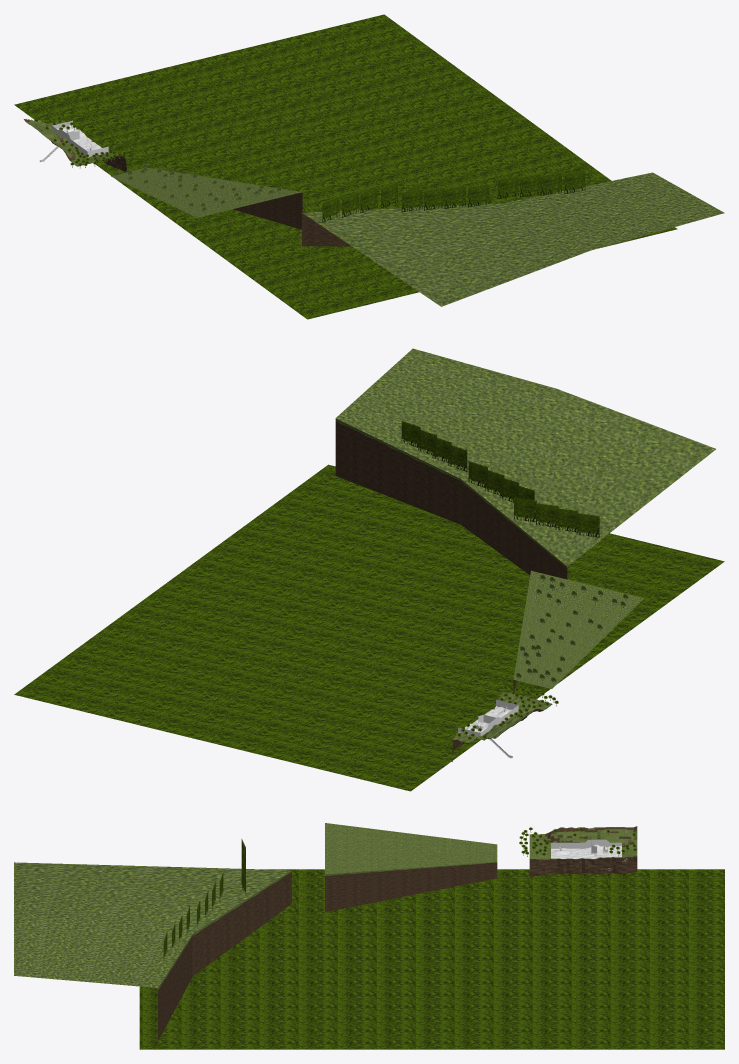
Rendered from Map_Cliffside7.glb.
3 views of the same model, one above another, from view 1: azimuth 30°, elevation 25°; view 2: azimuth 150°, elevation 25°; view 3: azimuth 270°, elevation 25° (orthographic). The views are drawn at different scales.
Parts seen in each view (by area): view 1: Deep Leaves, Outside, .Forest-Plane, .Tree-Plane, Map Col, .Tree; view 2: Deep Leaves, Outside, .Forest-Plane, .Tree-Plane, Map Col, .Tree; view 3: Deep Leaves, Outside, Cliff side, Map Col, .Forest-Plane, .Tree.
Part boxes in pixels (left/top/right/bottom): Deep Leaves: left=14, top=14, right=677, bottom=319; Outside: left=24, top=119, right=724, bottom=306; .Forest-Plane: left=322, top=170, right=585, bottom=222; .Tree-Plane: left=114, top=164, right=281, bottom=212; Map Col: left=52, top=120, right=108, bottom=157; .Tree: left=34, top=116, right=125, bottom=168; Deep Leaves: left=14, top=464, right=724, bottom=791; Outside: left=335, top=348, right=715, bottom=742; .Forest-Plane: left=401, top=420, right=599, bottom=537; .Tree-Plane: left=516, top=575, right=628, bottom=683; Map Col: left=458, top=699, right=518, bottom=736; .Tree: left=457, top=685, right=558, bottom=741; Deep Leaves: left=139, top=869, right=724, bottom=1049; Outside: left=14, top=823, right=637, bottom=1040; Cliff side: left=529, top=856, right=637, bottom=876; Map Col: left=551, top=839, right=627, bottom=870; .Forest-Plane: left=163, top=839, right=245, bottom=960; .Tree: left=519, top=827, right=636, bottom=857.
Bounding box in the file's own units: 589 × 105 × 884.
14 materials, 13 textured.
